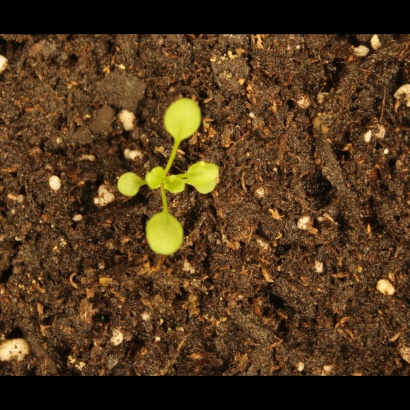leaf: (143, 210, 193, 255), (162, 95, 206, 140), (183, 157, 220, 185), (109, 169, 143, 198), (188, 171, 221, 197), (146, 165, 169, 193), (166, 173, 189, 196)
